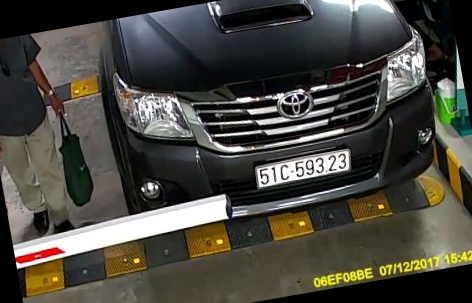plate: (246, 150, 359, 193)
